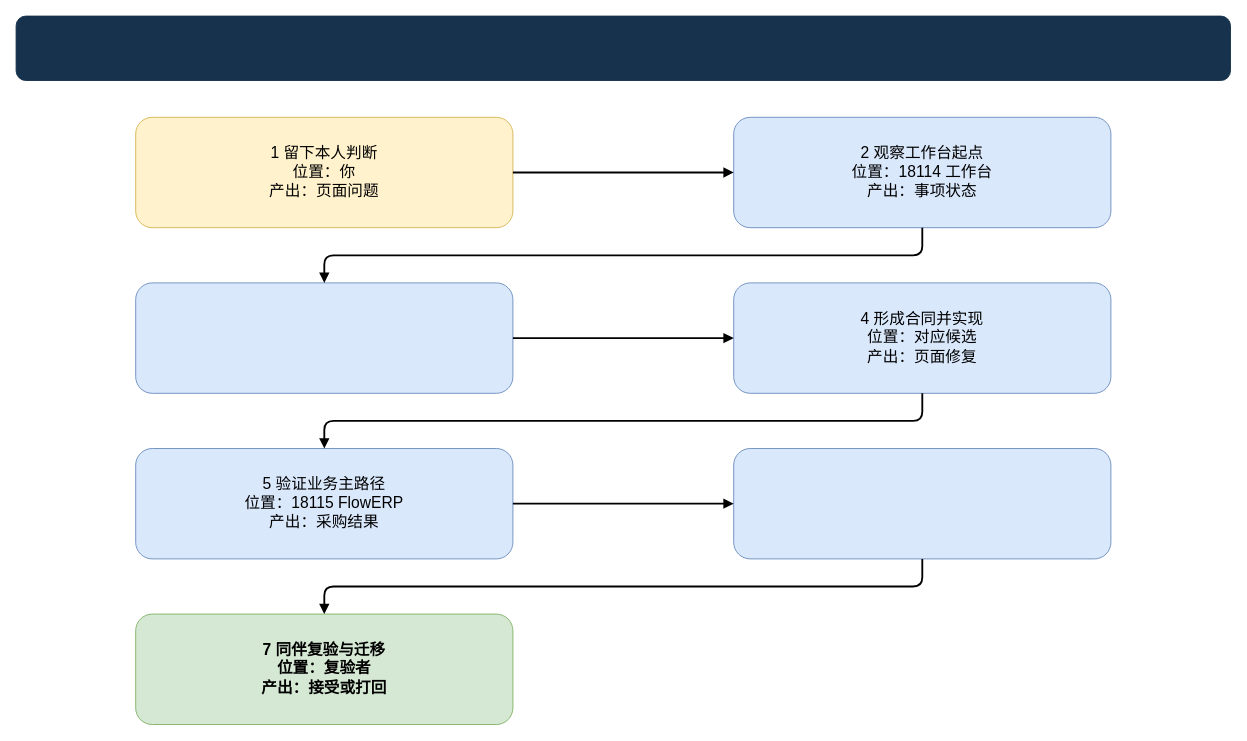
The diagram is 1247 pixels wide and 741 high, and some of its shapes have lost their labels. The box of each missing label's shape, as (x1, y1, x2, y2) in pixels:
3 制造失败并恢复 位置：浏览器 + 服务 产出：失败证据: (135, 282, 513, 393)
6 核验结果与下载 位置：两个系统 产出：一致性证据: (733, 448, 1111, 559)
L14 实践路线：按顺序操作，每一步都留下实际结果: (15, 15, 1230, 80)
